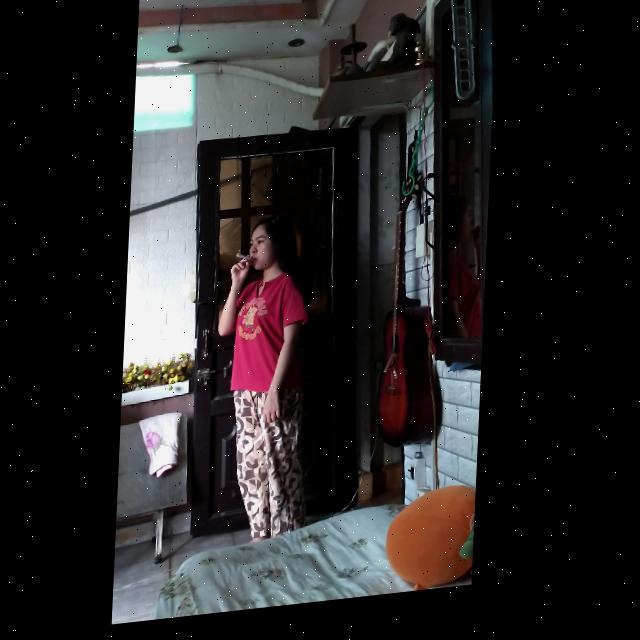cigarette: (239, 259, 257, 268)
